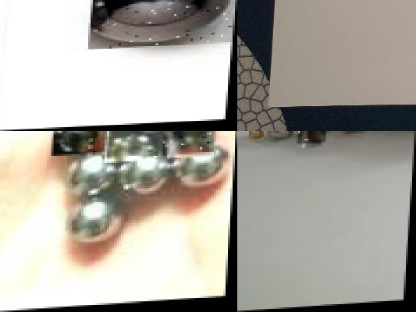ironball: (88, 0, 237, 50), (111, 141, 175, 209), (42, 150, 121, 203), (172, 146, 235, 196), (286, 19, 342, 67), (79, 205, 137, 247), (244, 84, 293, 131), (289, 69, 340, 111), (104, 131, 160, 164), (163, 131, 216, 157), (51, 131, 104, 156), (278, 108, 330, 131), (297, 131, 326, 144)
